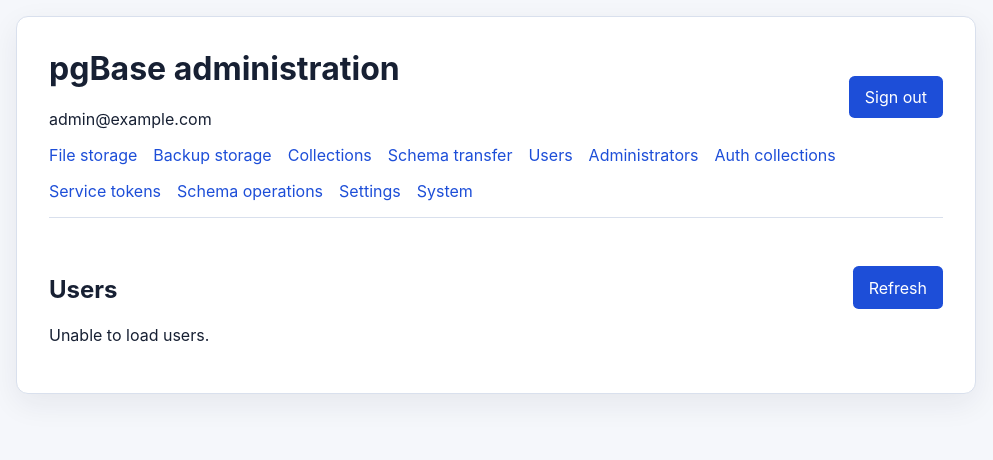
users page › retries an unavailable user list
Check: the message "Unable to load users." is shown, box [49, 325, 209, 345]
Click the button "Refresh": (898, 288) [853, 266, 943, 309]
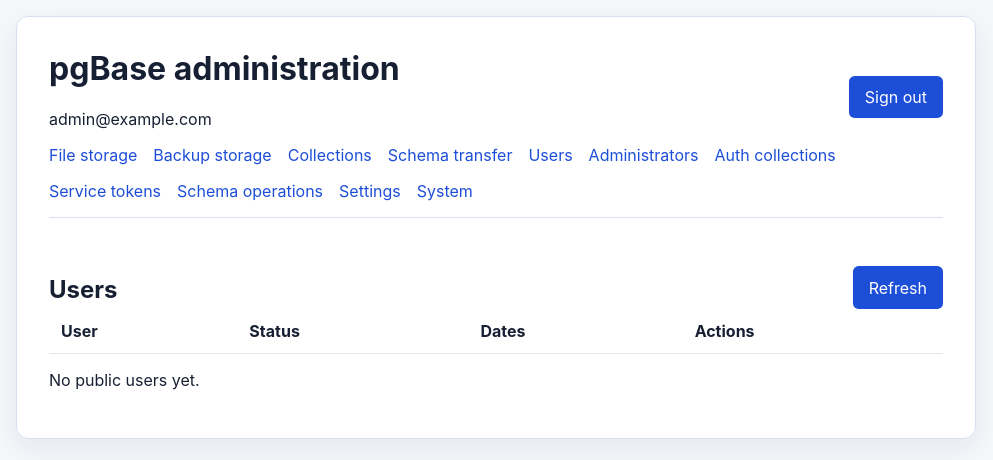
Check: the text "No public users yet." is shown, box [49, 370, 200, 390]
